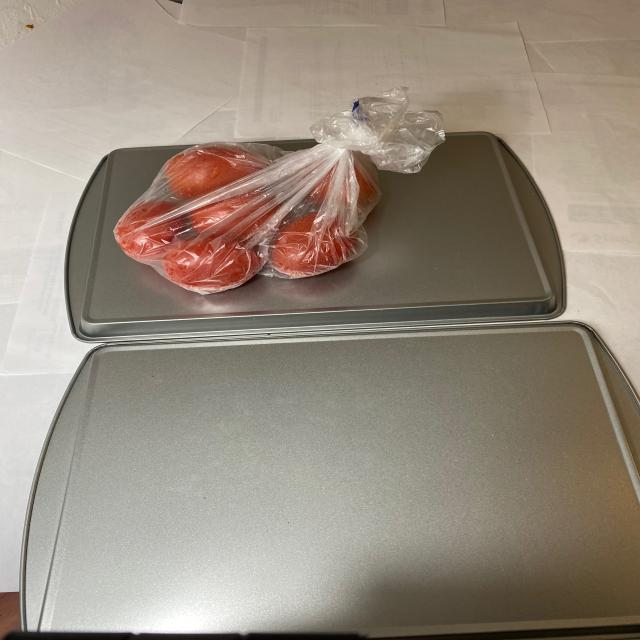tomato: (108, 123, 400, 295)
